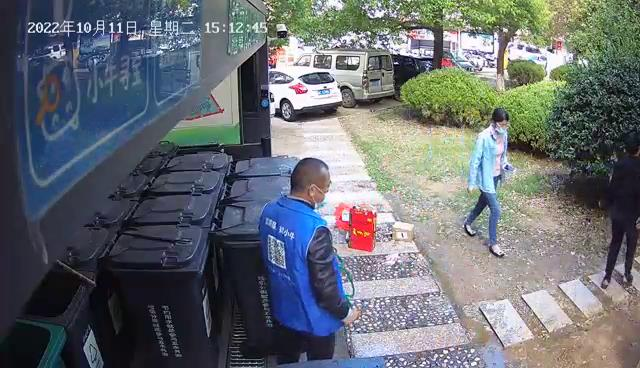person: (598, 133, 640, 288)
worker: (258, 156, 362, 365), (462, 107, 517, 259)
zhizhipin: (349, 204, 378, 252), (391, 220, 416, 242)
